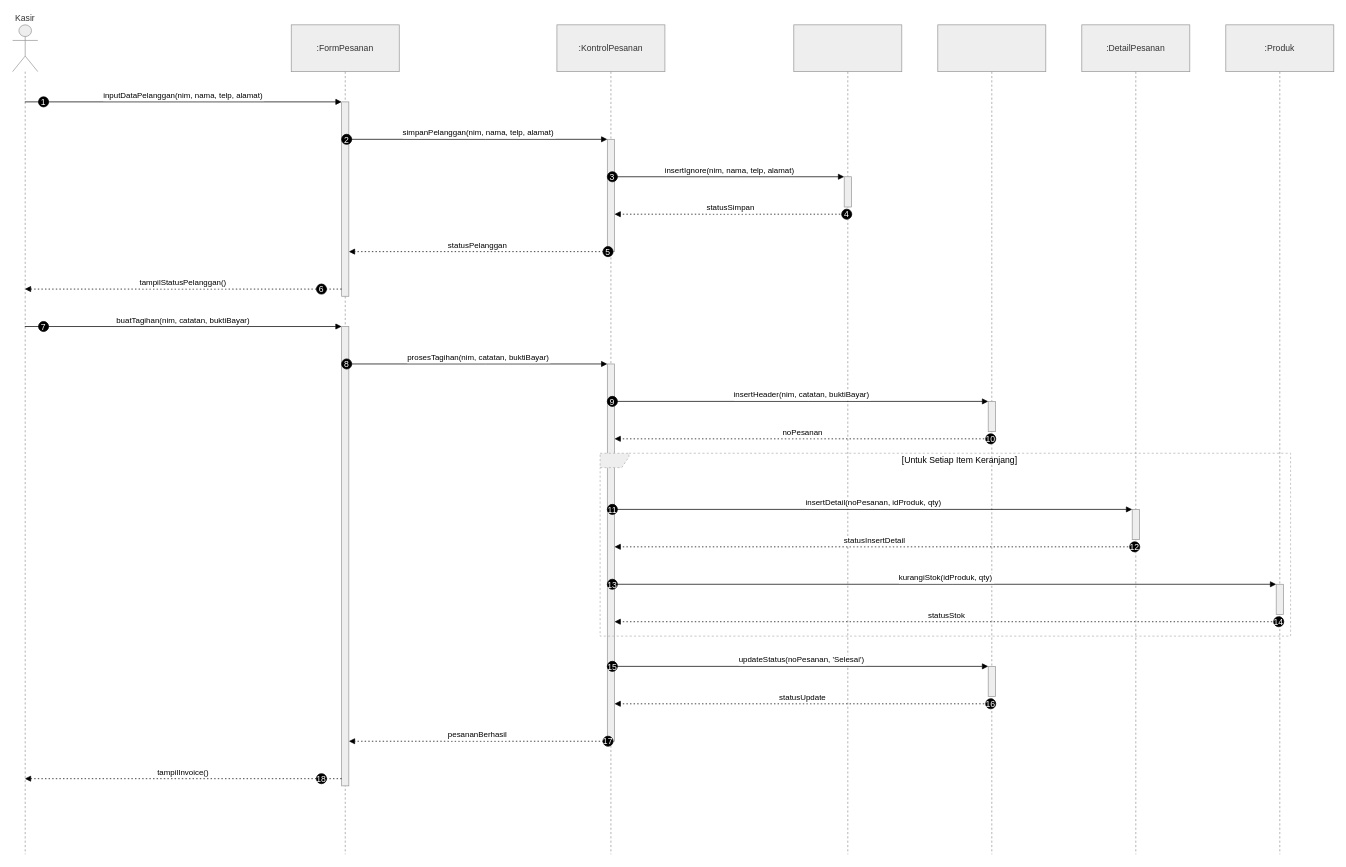
Image size: 1346x867. Some labels were removed from this diagram. The box of each missing label's shape, as (x1, y1, x2, y2) in pixels:
:Pelanggan: (793, 24, 902, 854)
:Pesanan: (937, 24, 1046, 854)
loop: (599, 453, 1291, 636)
